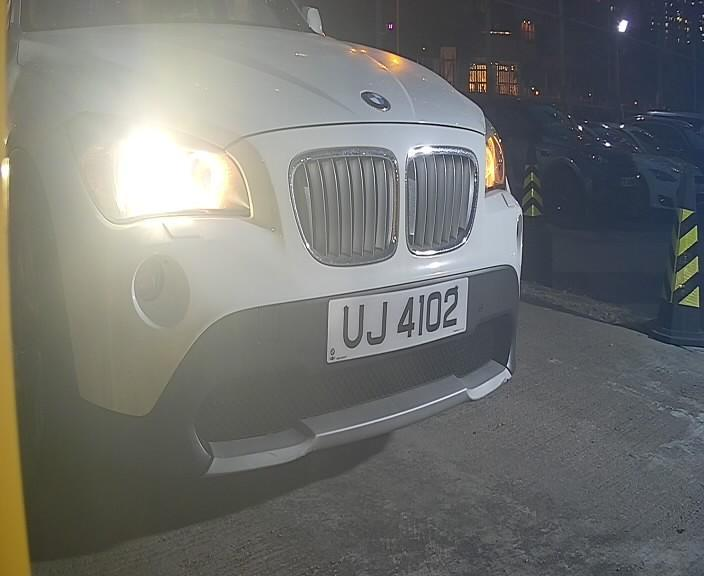privatecar: (32, 1, 532, 507)
